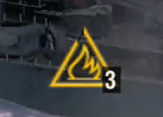3fire: (47, 52, 123, 96)
